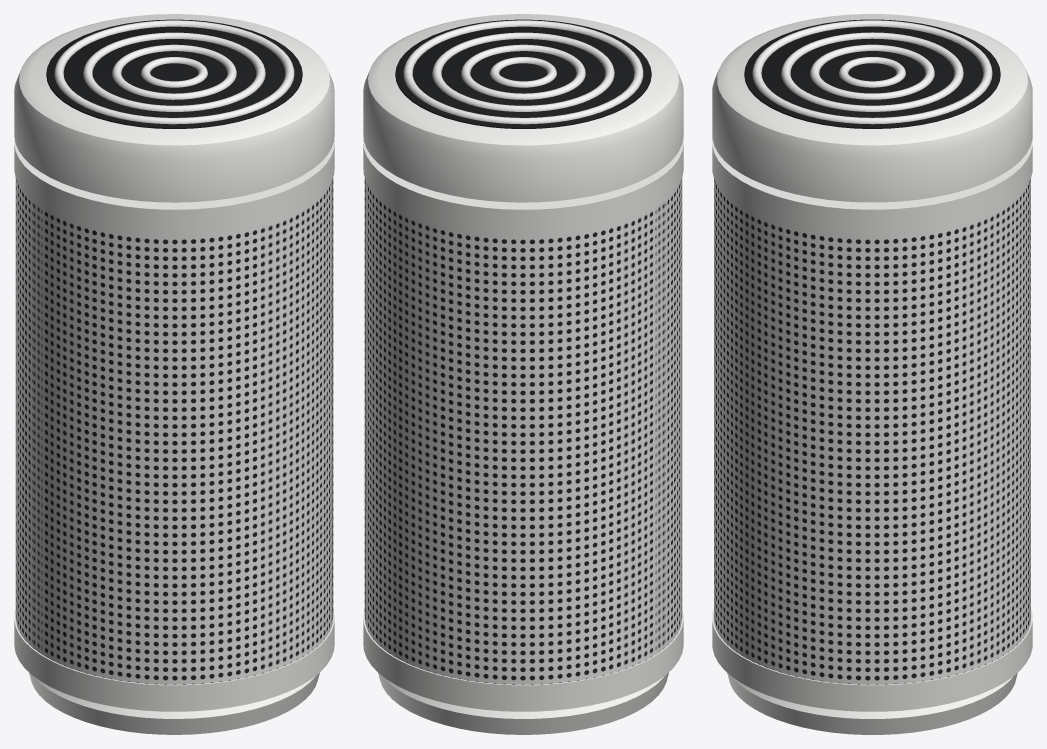
Rendered from AS105GWJC.glb.
The picture shows the model from 3 angles, left to right: view 1: azimuth 30°, elevation 25°; view 2: azimuth 150°, elevation 25°; view 3: azimuth 270°, elevation 25°; orthographic projection.
Visible parts, largest first — view 1: AS105GWJC; view 2: AS105GWJC; view 3: AS105GWJC.
Part boxes in pixels (x1,y1,x2,y2): AS105GWJC: [14, 14, 334, 734]; AS105GWJC: [363, 14, 683, 734]; AS105GWJC: [712, 14, 1032, 734].
Size of the model in its own units: 0.24 by 0.5 by 0.24.
3 materials, 1 textured.
